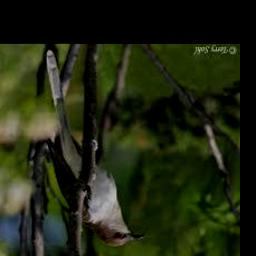Cuckoo: (45, 48, 145, 247)
